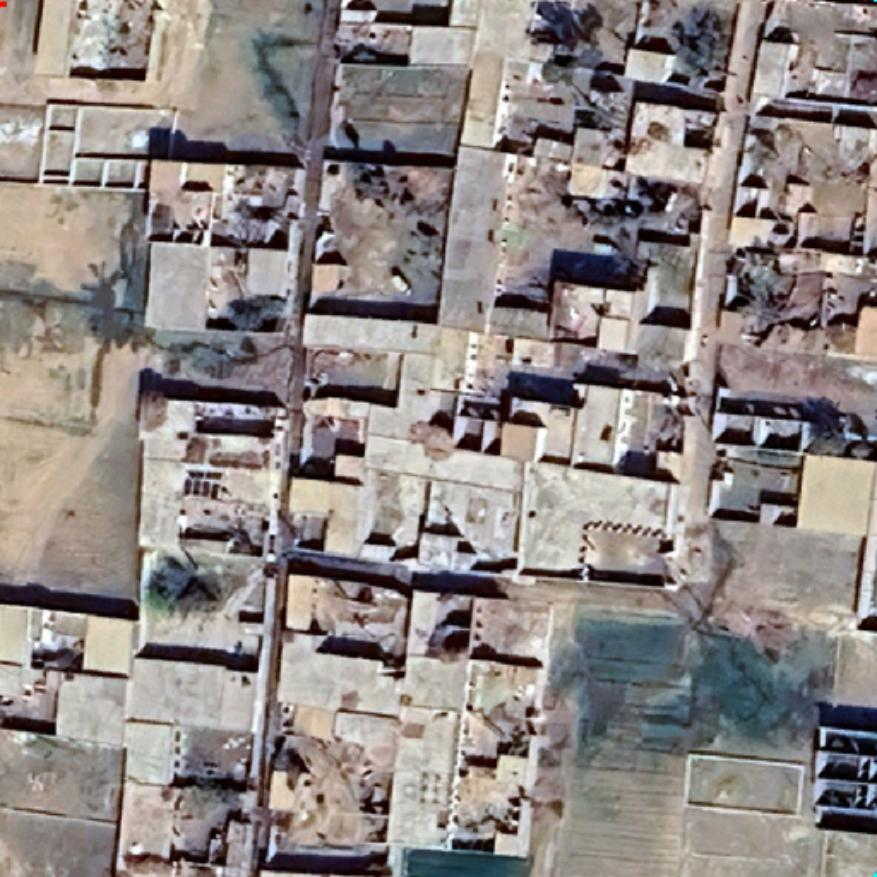Solarpanel: (179, 471, 227, 503)
